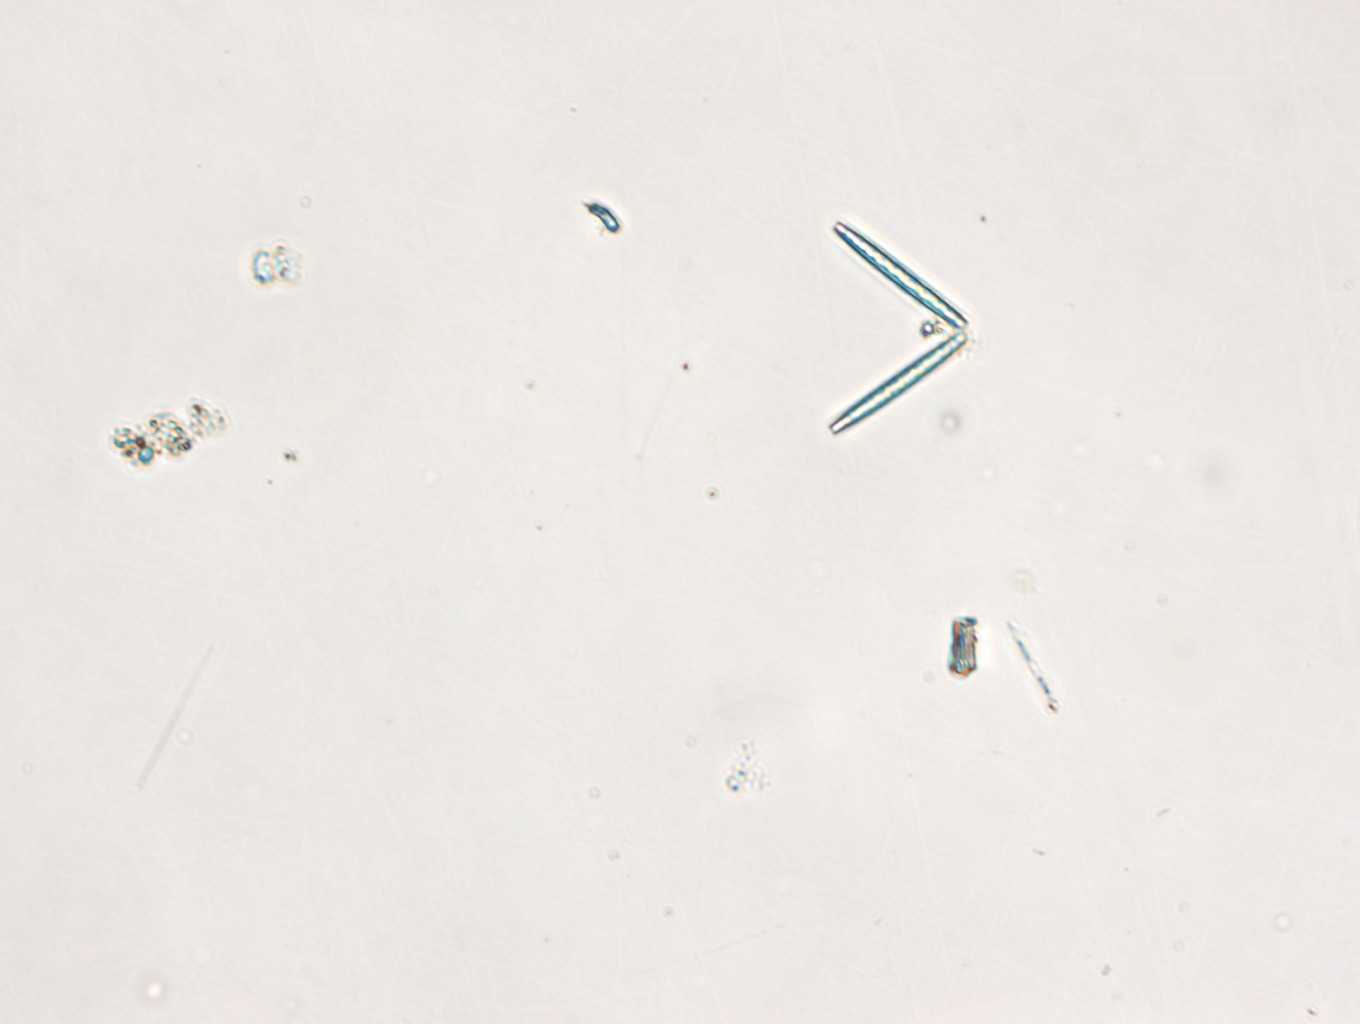thalassionema nitzschioides: (829, 218, 970, 436)
